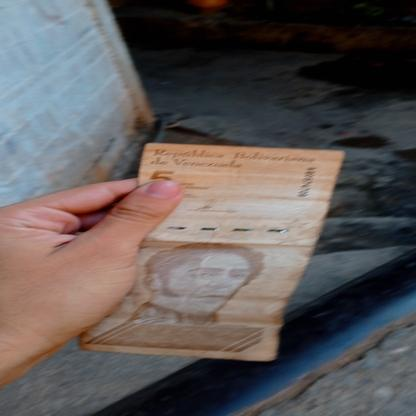five-front-vef: (78, 142, 346, 362)
